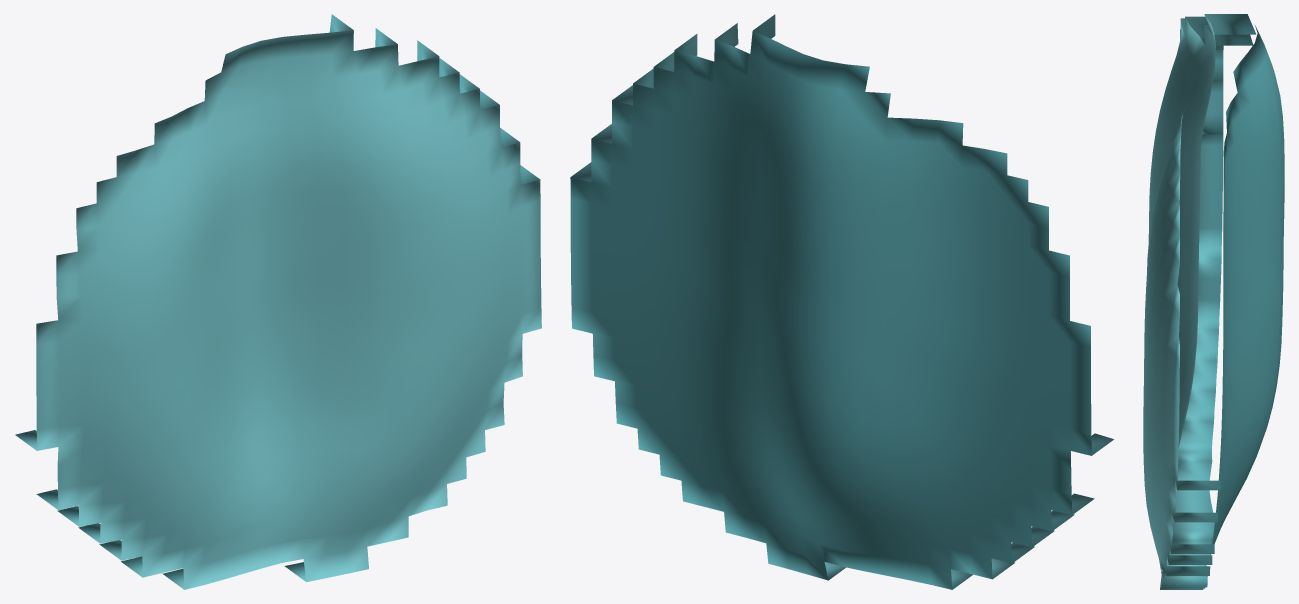
Rendered from PAIR-OFFLOAD-2ND_LEFT_addon.glb.
3 views of the same model, side by side, from view 1: azimuth 30°, elevation 25°; view 2: azimuth 150°, elevation 25°; view 3: azimuth 270°, elevation 25° (orthographic). The views are drawn at different scales.
Visible parts, largest first — view 1: world; view 2: world; view 3: world.
Boxes of the visible parts, x1,y1,x2,y2 form: world: [15, 14, 541, 589]; world: [570, 14, 1113, 589]; world: [1143, 14, 1284, 589].
Bounding box in the file's own units: 25 × 25 × 6.19.
